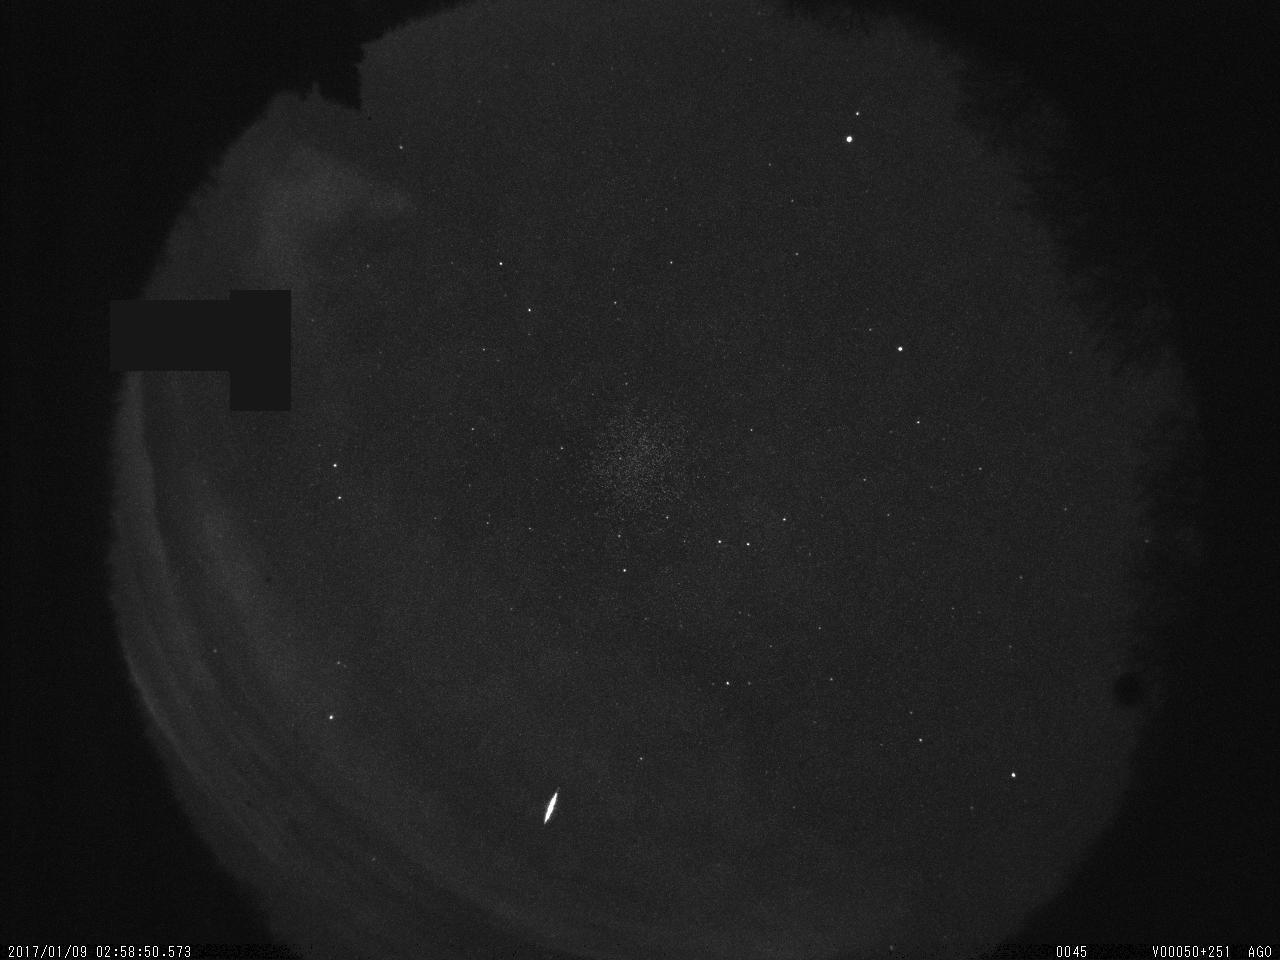meteor: (516, 780, 577, 840)
